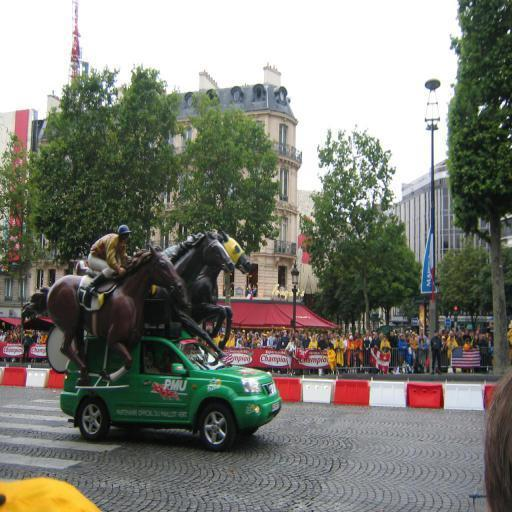horse: (21, 244, 184, 384), (144, 227, 238, 360), (156, 232, 254, 352), (215, 230, 252, 276)
